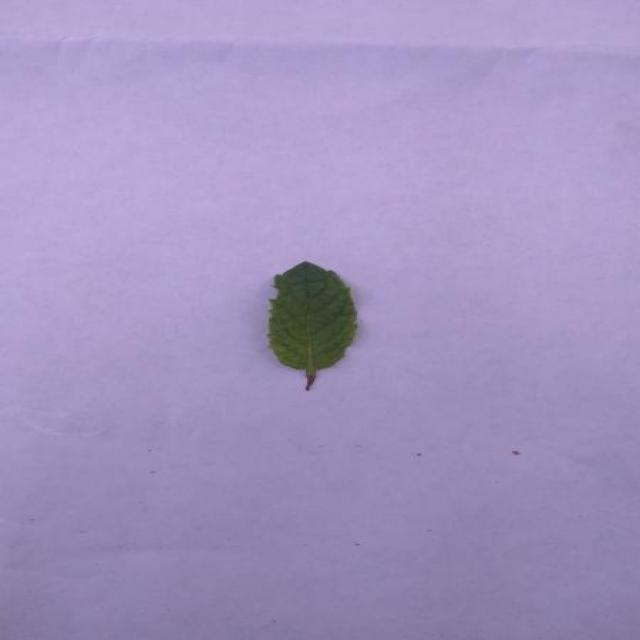mint: (268, 261, 357, 389)
